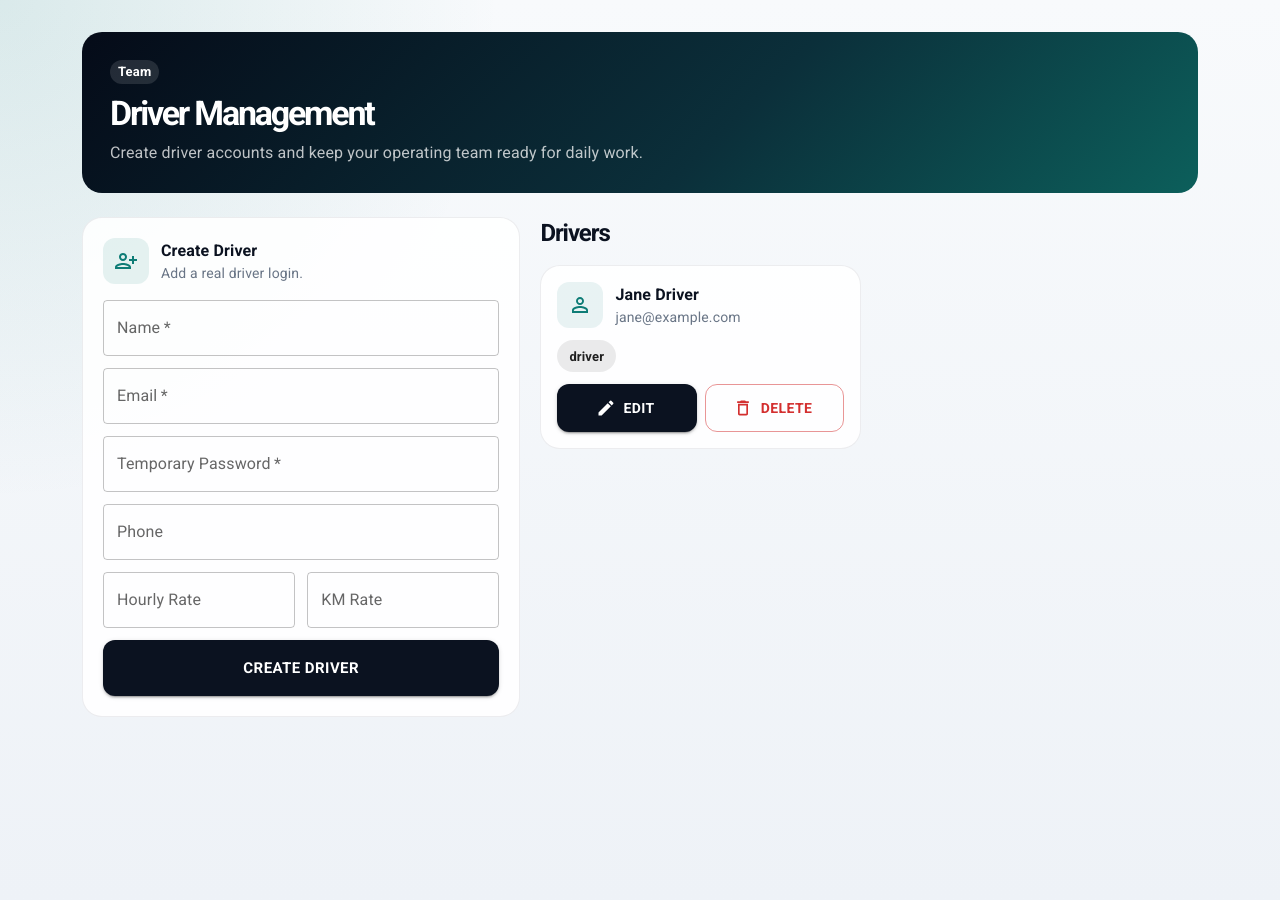
Test: admin Drivers — archive (not permanent delete) wording › PASS: the confirmation dialog is labeled Delete but its body explains this archives, not permanently deletes
Expected: the text "Jane Driver" is shown, [615,285,699,304]
Click the button "Delete".
click(774, 408)  # box [705,384,844,432]
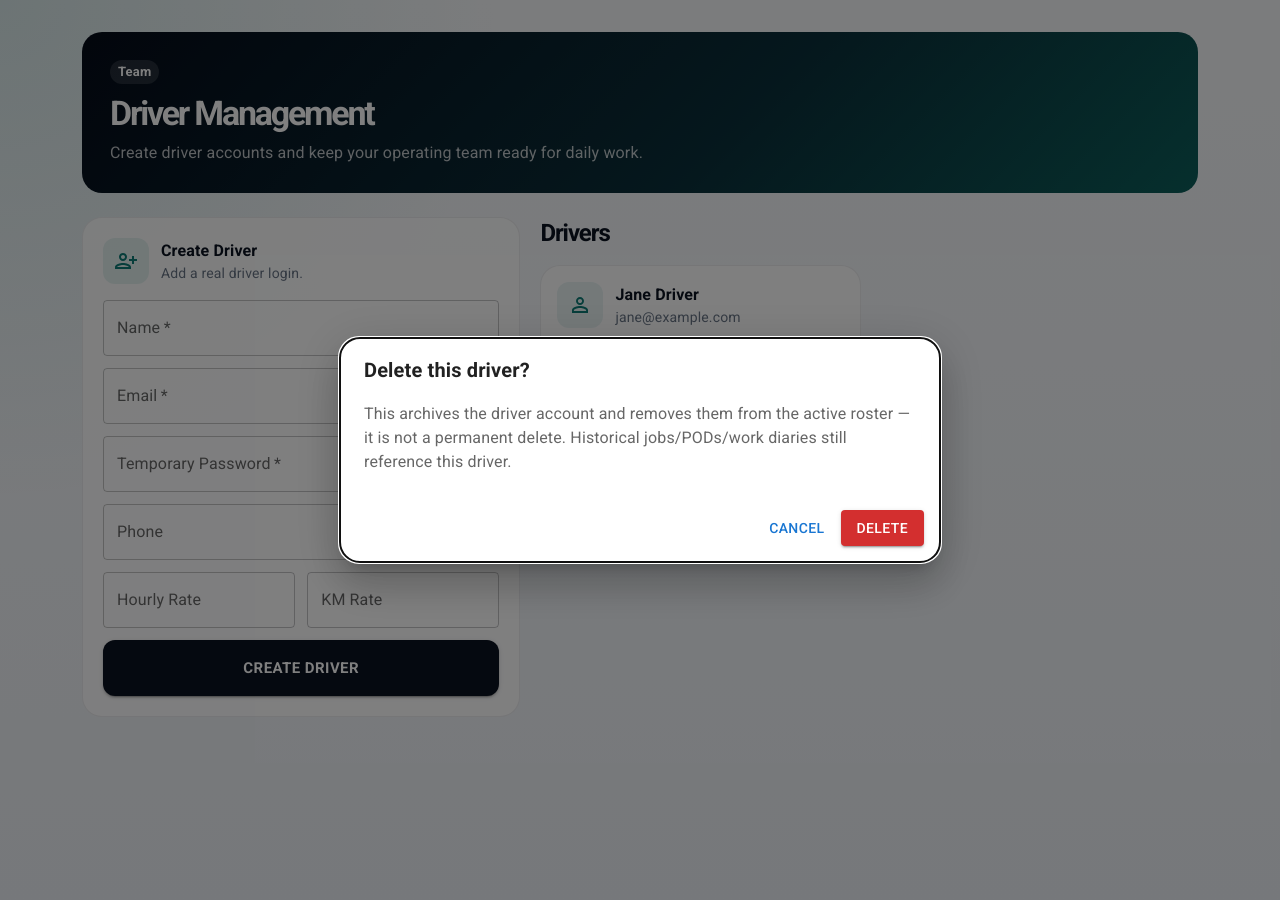
Expected: the heading "Delete this driver?" is shown, [364,358,530,382]
Expected: the text "not a permanent delete" is shown, [364,404,910,471]
Expected: the dialog is shown, [340,338,940,562]
